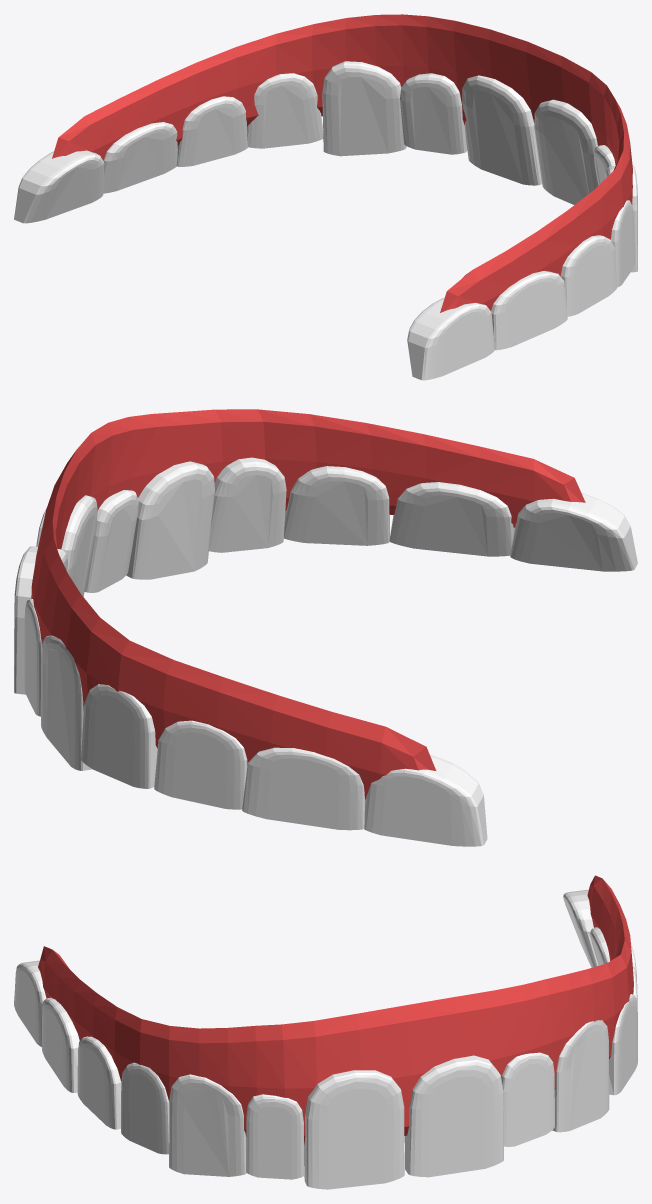
File: top.obj
3 renders of one model, top to bottom at view 1: azimuth 30°, elevation 25°; view 2: azimuth 150°, elevation 25°; view 3: azimuth 270°, elevation 25°, orthographic. The views are drawn at different scales.
Parts seen in each view (by area): view 1: Object.15, Object.5, Object.2, Object.14, Object.1, Object.10, Object.7, Object.3, Object.13, Object.8, Object.9, Object.12 (+3 smaller); view 2: Object.15, Object.10, Object.9, Object.6, Object.14, Object.13, Object.12, Object.8, Object.11, Object.7, Object.5, Object.4 (+3 smaller); view 3: Object.15, Object.1, Object.2, Object.6, Object.5, Object.4, Object.3, Object.11, Object.12, Object.13, Object.7, Object.14 (+2 smaller).
Part boxes in pixels (x1=…): Object.15: x1=52, y1=14, x2=632, y2=312; Object.5: x1=322, y1=61, x2=406, y2=156; Object.2: x1=462, y1=75, x2=542, y2=185; Object.14: x1=407, y1=297, x2=494, y2=380; Object.1: x1=534, y1=99, x2=598, y2=204; Object.10: x1=14, y1=150, x2=104, y2=223; Object.7: x1=247, y1=73, x2=323, y2=148; Object.3: x1=400, y1=73, x2=467, y2=154; Object.13: x1=491, y1=271, x2=567, y2=350; Object.8: x1=176, y1=96, x2=247, y2=166; Object.9: x1=103, y1=122, x2=177, y2=193; Object.12: x1=560, y1=235, x2=617, y2=316; Object.15: x1=31, y1=409, x2=585, y2=799; Object.10: x1=364, y1=755, x2=487, y2=846; Object.9: x1=242, y1=747, x2=365, y2=830; Object.6: x1=126, y1=461, x2=214, y2=579; Object.14: x1=510, y1=493, x2=637, y2=571; Object.13: x1=389, y1=482, x2=514, y2=556; Object.12: x1=284, y1=466, x2=389, y2=545; Object.8: x1=154, y1=720, x2=247, y2=809; Object.11: x1=208, y1=457, x2=286, y2=552; Object.7: x1=81, y1=684, x2=157, y2=788; Object.5: x1=41, y1=635, x2=92, y2=770; Object.4: x1=84, y1=490, x2=138, y2=592; Object.15: x1=38, y1=875, x2=633, y2=1144; Object.1: x1=304, y1=1070, x2=404, y2=1189; Object.2: x1=404, y1=1055, x2=503, y2=1177; Object.6: x1=169, y1=1074, x2=246, y2=1176; Object.5: x1=552, y1=1020, x2=609, y2=1132; Object.4: x1=246, y1=1094, x2=303, y2=1179; Object.3: x1=501, y1=1052, x2=554, y2=1146; Object.11: x1=121, y1=1062, x2=169, y2=1154; Object.12: x1=77, y1=1036, x2=121, y2=1129; Object.13: x1=42, y1=997, x2=79, y2=1092; Object.7: x1=609, y1=994, x2=637, y2=1095; Object.14: x1=14, y1=960, x2=46, y2=1046.
Size of the model in its own units: 437599 by 135307 by 462706.
